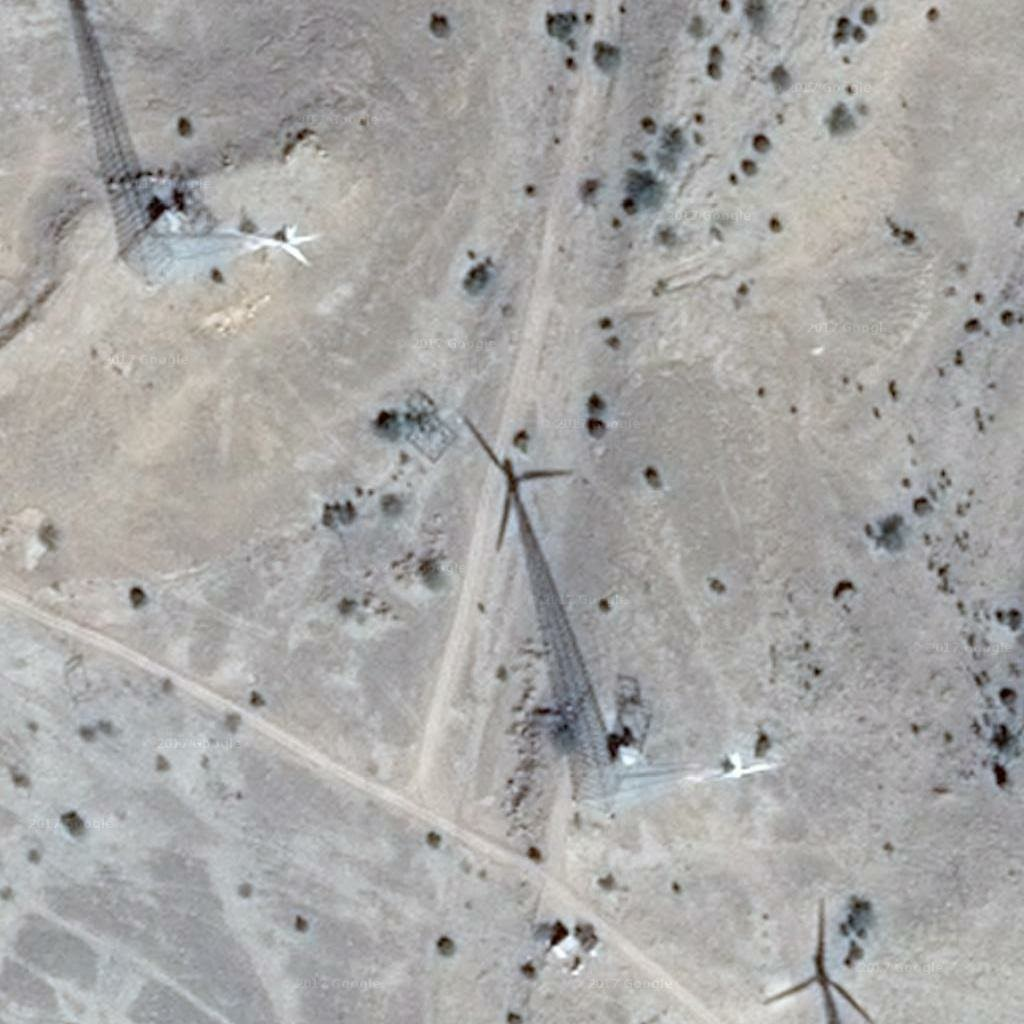Windmill: (458, 415, 617, 735)
